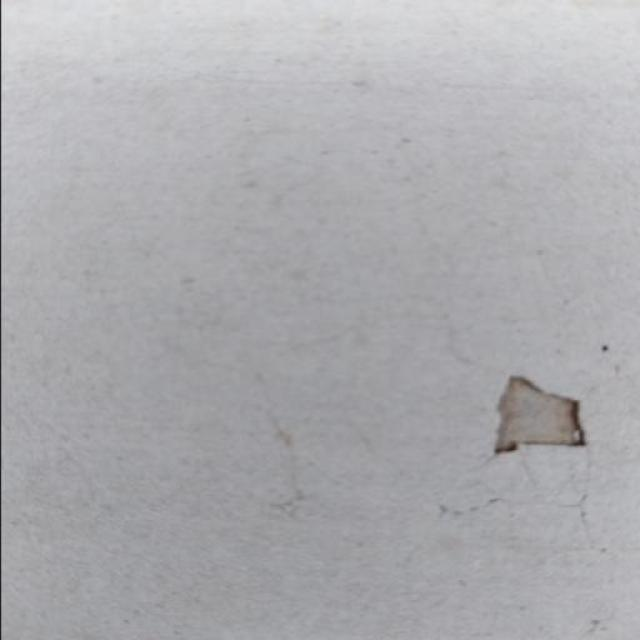D10: (495, 374, 586, 454)
